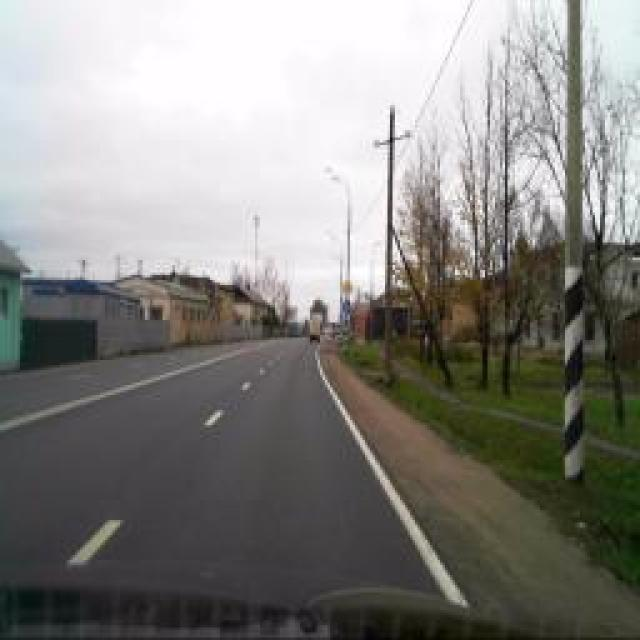sign: (341, 299, 351, 316)
